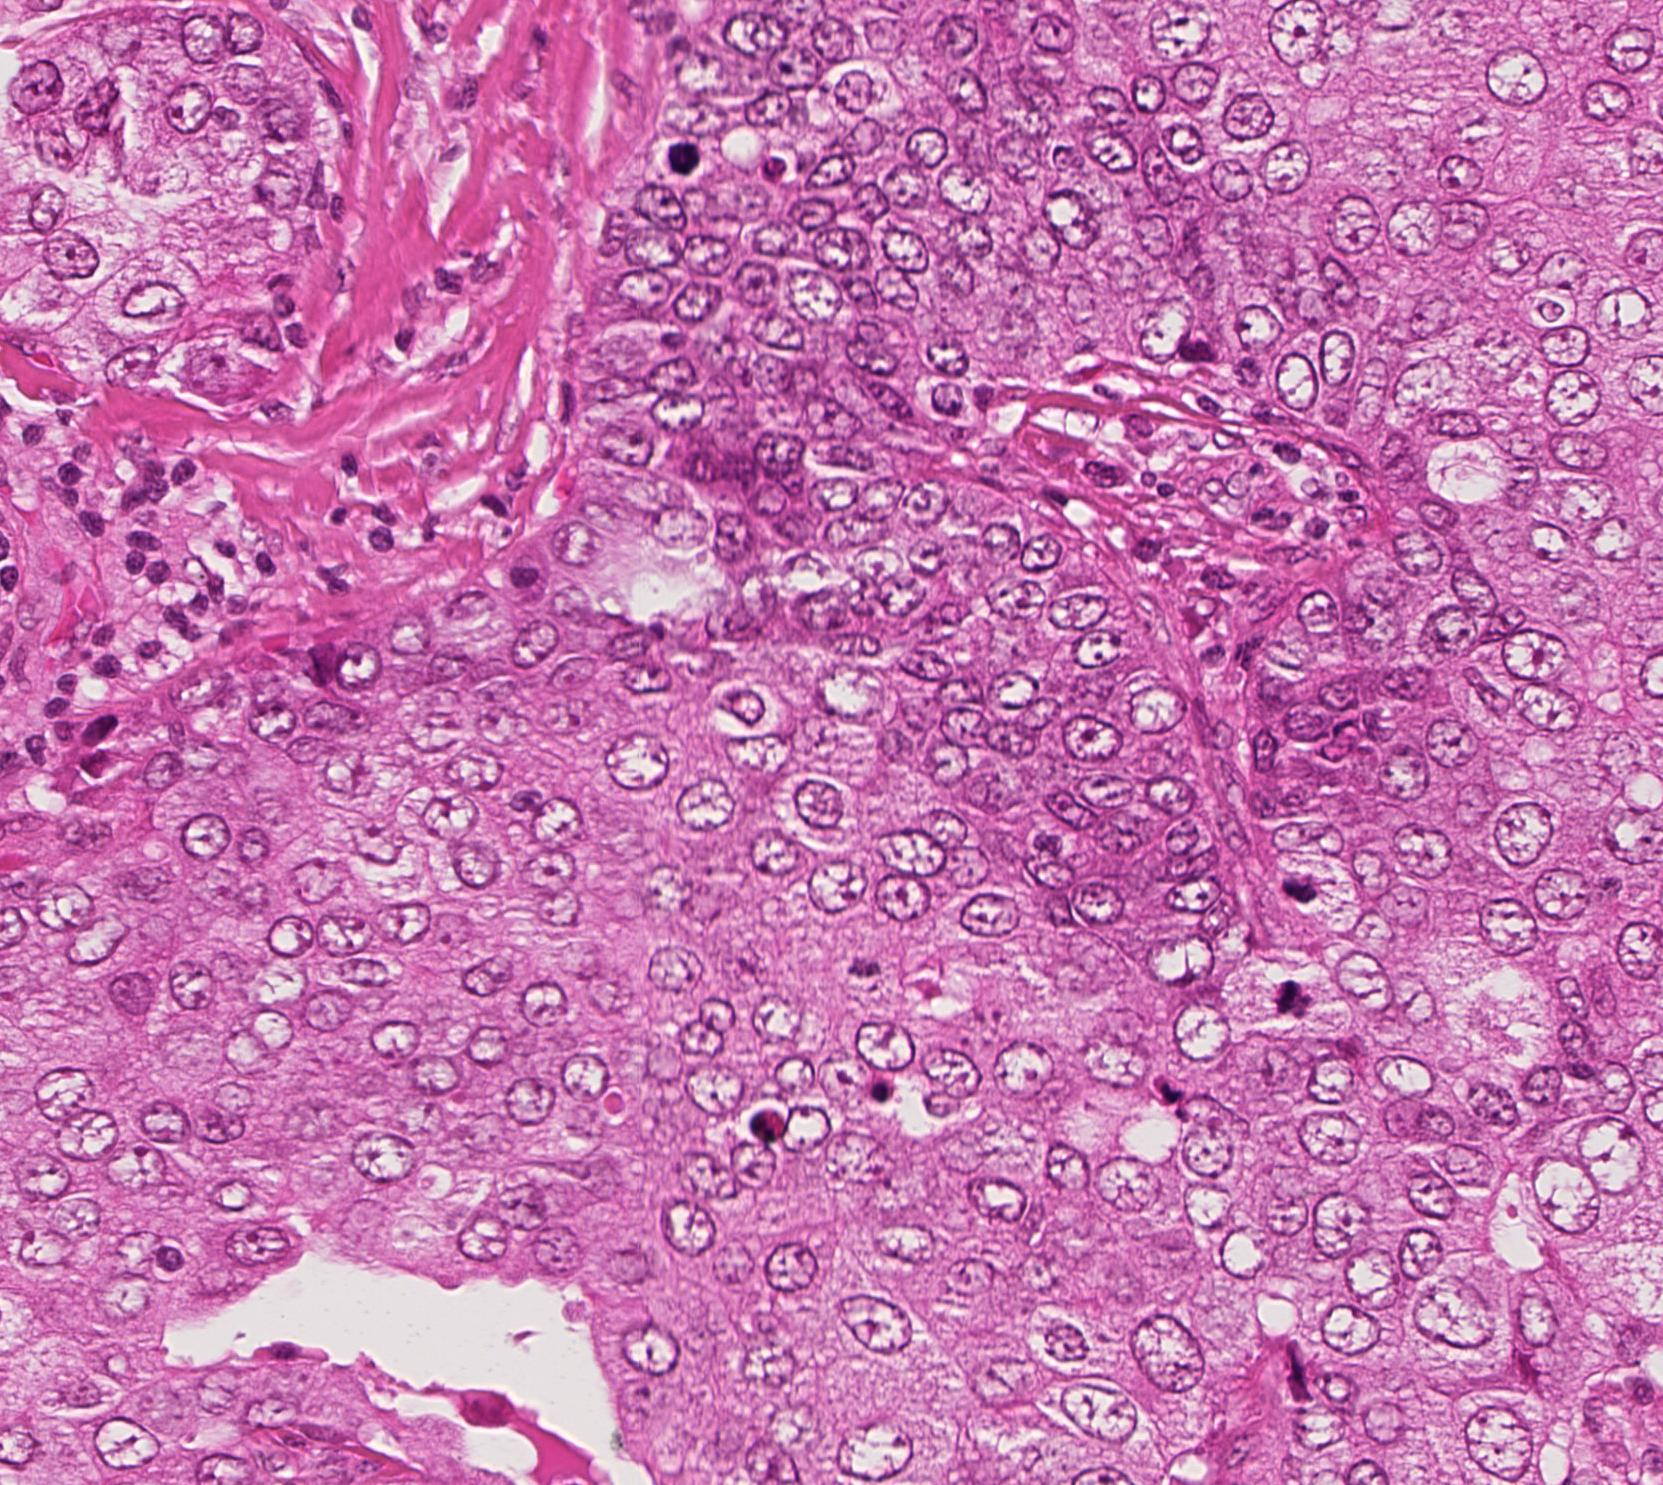mitosis: (658, 128, 718, 188), (834, 937, 895, 998), (1262, 970, 1322, 1031), (1270, 864, 1330, 925)
